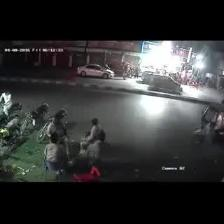person: (47, 109, 69, 159), (0, 91, 11, 116)
